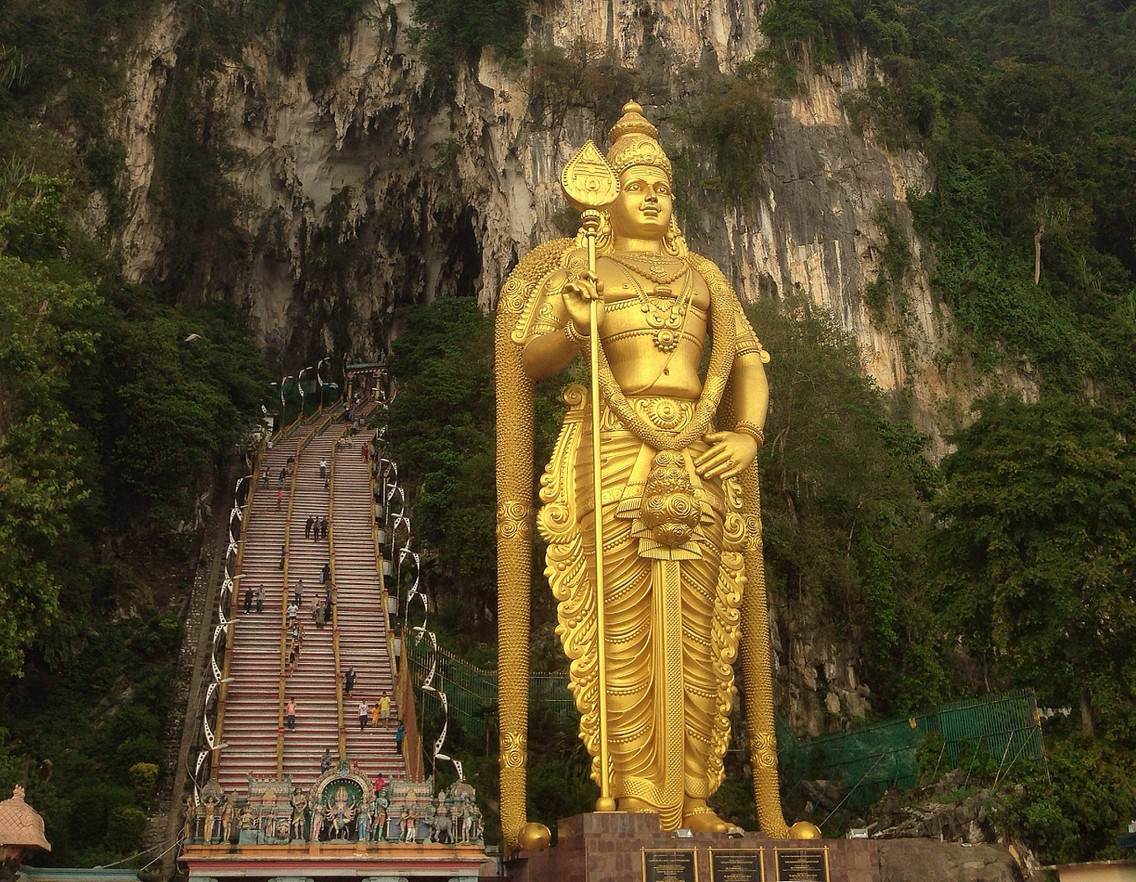Hindu Temple: (491, 83, 803, 833)
